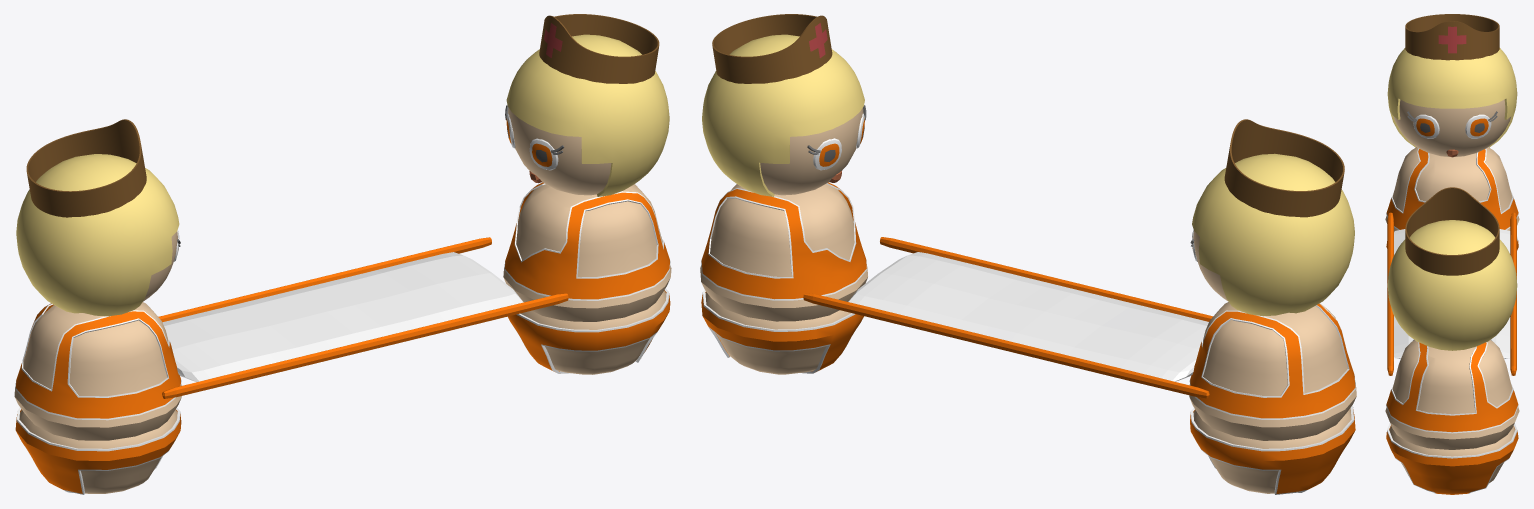
The model's file is hemşire.fbx.
The picture shows the model from 3 angles, left to right: view 1: azimuth 30°, elevation 25°; view 2: azimuth 150°, elevation 25°; view 3: azimuth 270°, elevation 25°; orthographic projection. The views are drawn at different scales.
Visible parts, largest first — view 1: Cube.003; view 2: Cube.003; view 3: Cube.003.
Part boxes in pixels (x1,y1,x2,y2): Cube.003: (14,14,671,494); Cube.003: (700,14,1356,494); Cube.003: (1385,14,1519,494).
Bounding box in the file's own units: 748 × 396 × 171.
